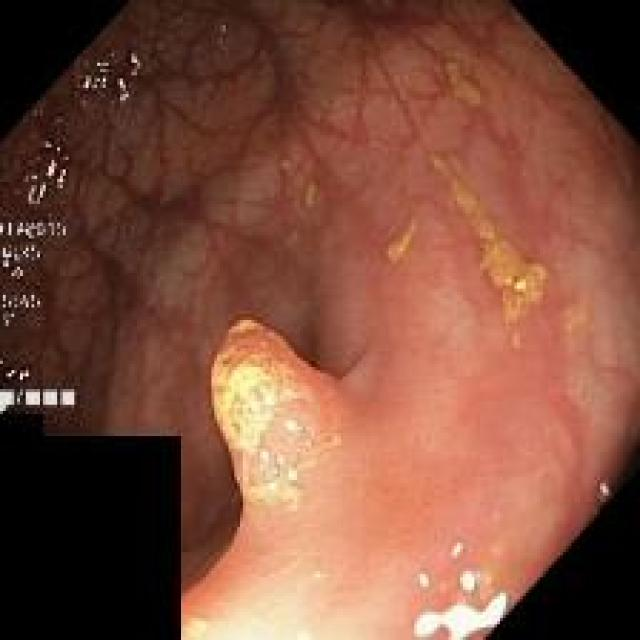Polyps: (211, 320, 340, 499)
